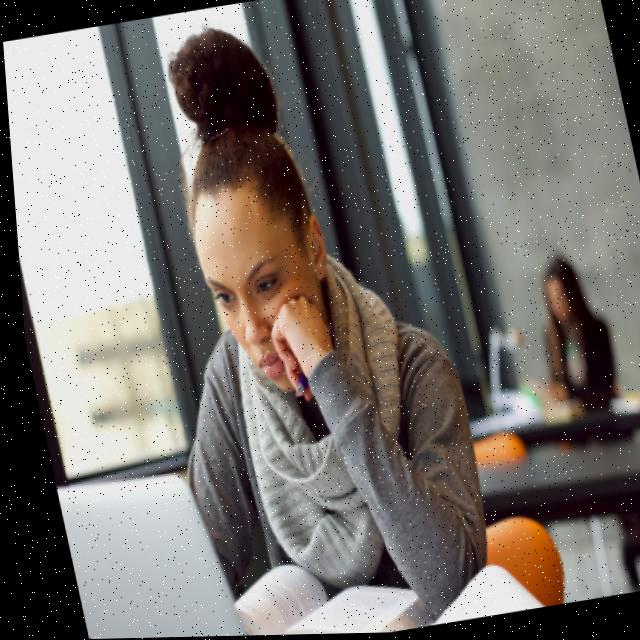studying-person: (68, 0, 508, 639)
